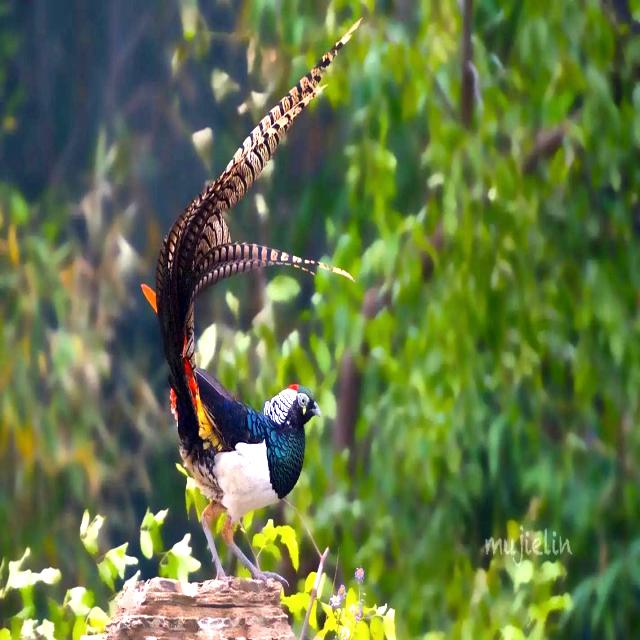Chrysolophus amherstiae: (141, 24, 355, 471)
